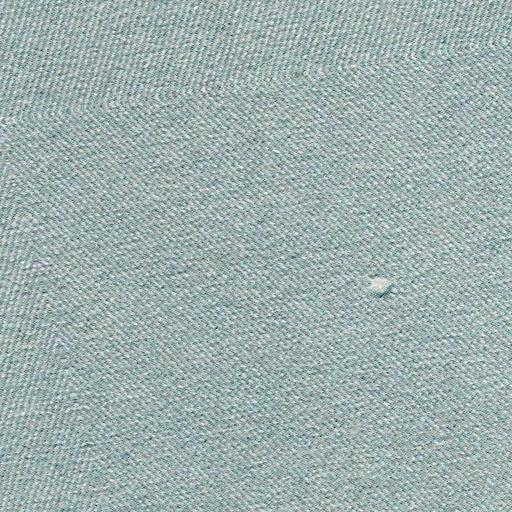knot: (358, 265, 411, 312)
